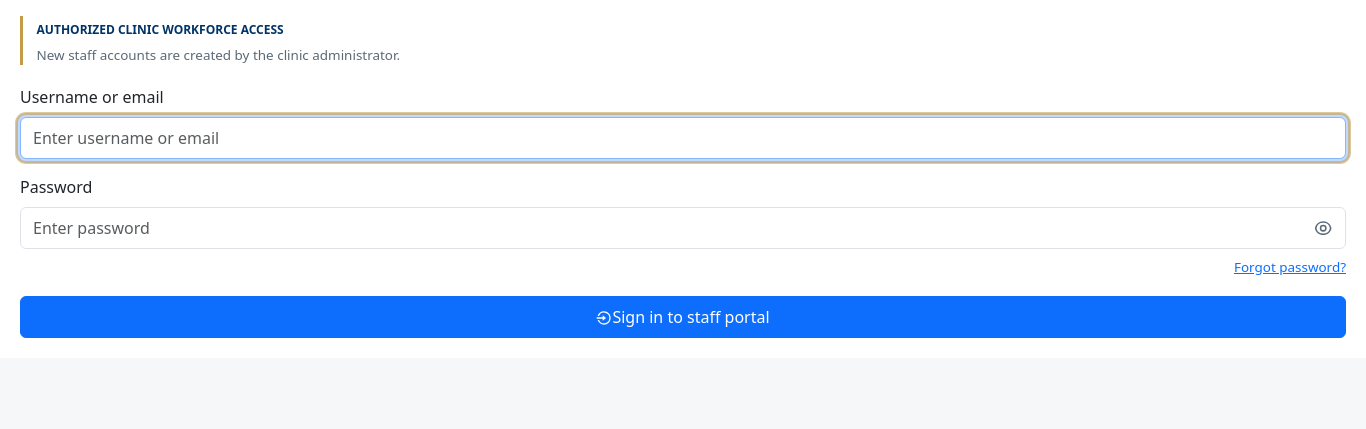
Scenario: inactive account message is displayed from the login response
Type "inactive.user" into the field labelled "Username or email" at [683, 138], box x1=20 y1=117 x2=1346 y2=159
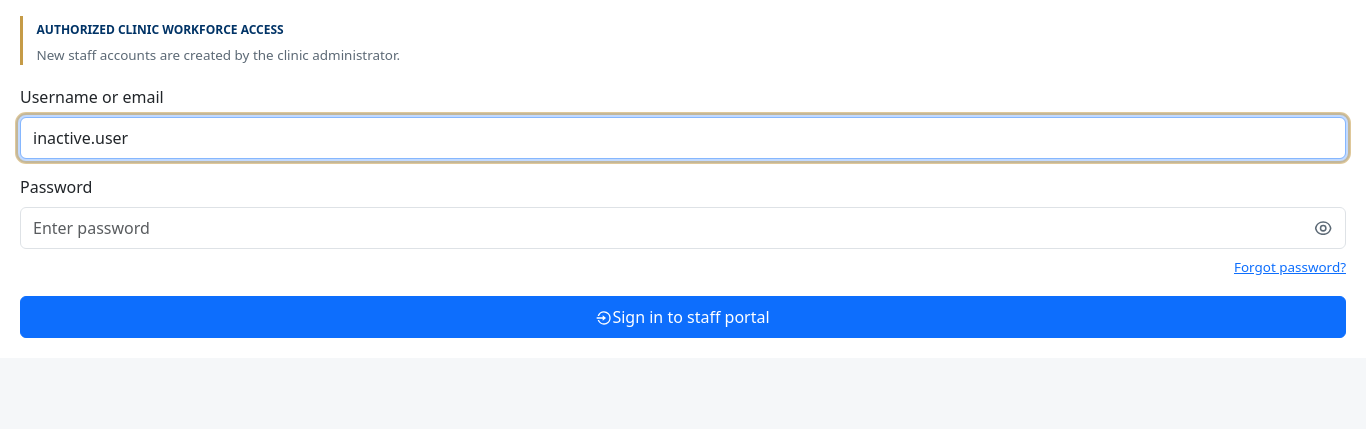
Type "SomePass123!" into the password field labelled "Password" at [683, 228], box x1=20 y1=207 x2=1346 y2=249
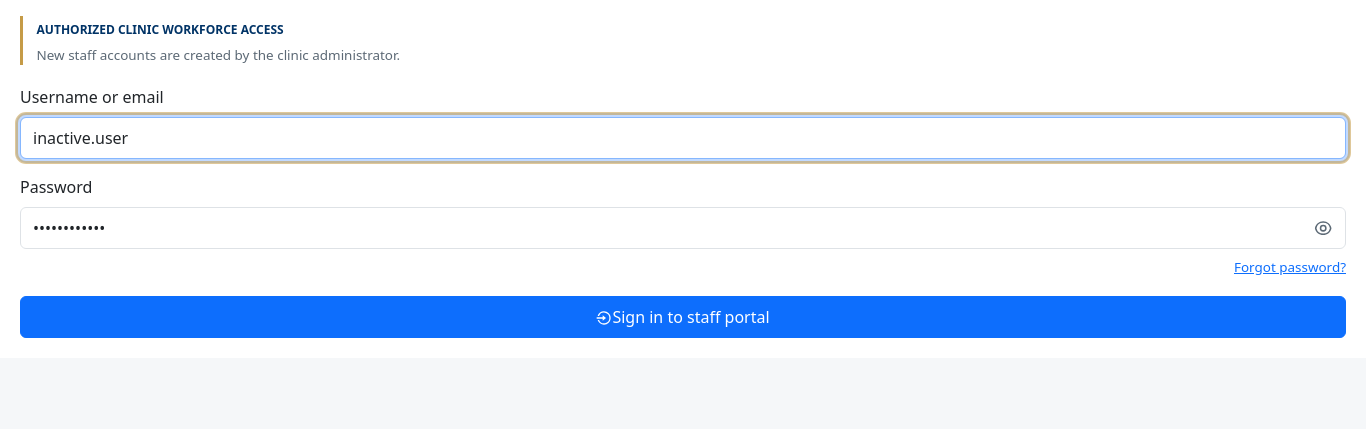
Click the button "Sign in to staff portal" at [683, 316], box x1=20 y1=296 x2=1346 y2=338
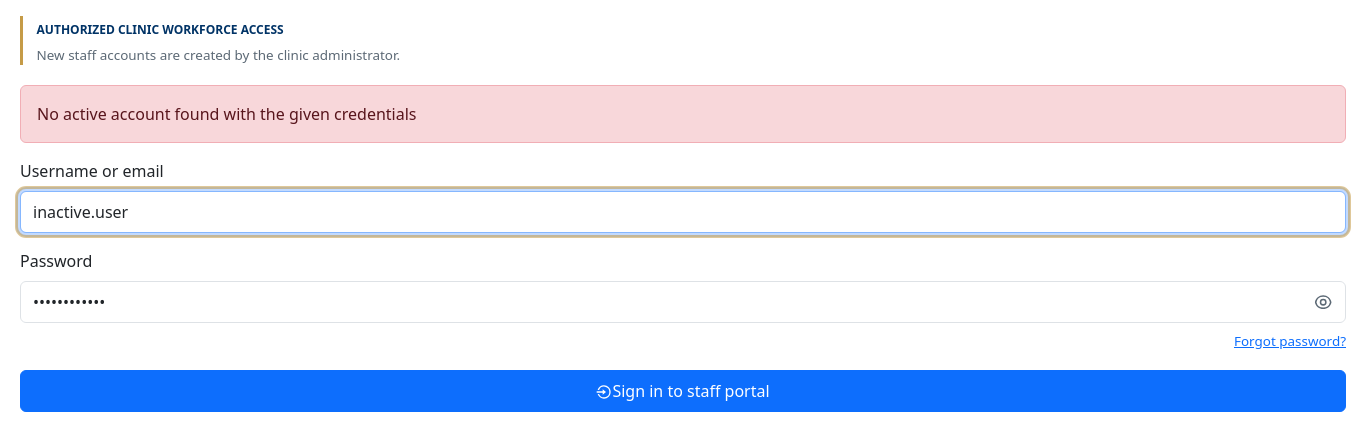
expect the message shows "No active account found": met, box x1=37 y1=103 x2=416 y2=125
